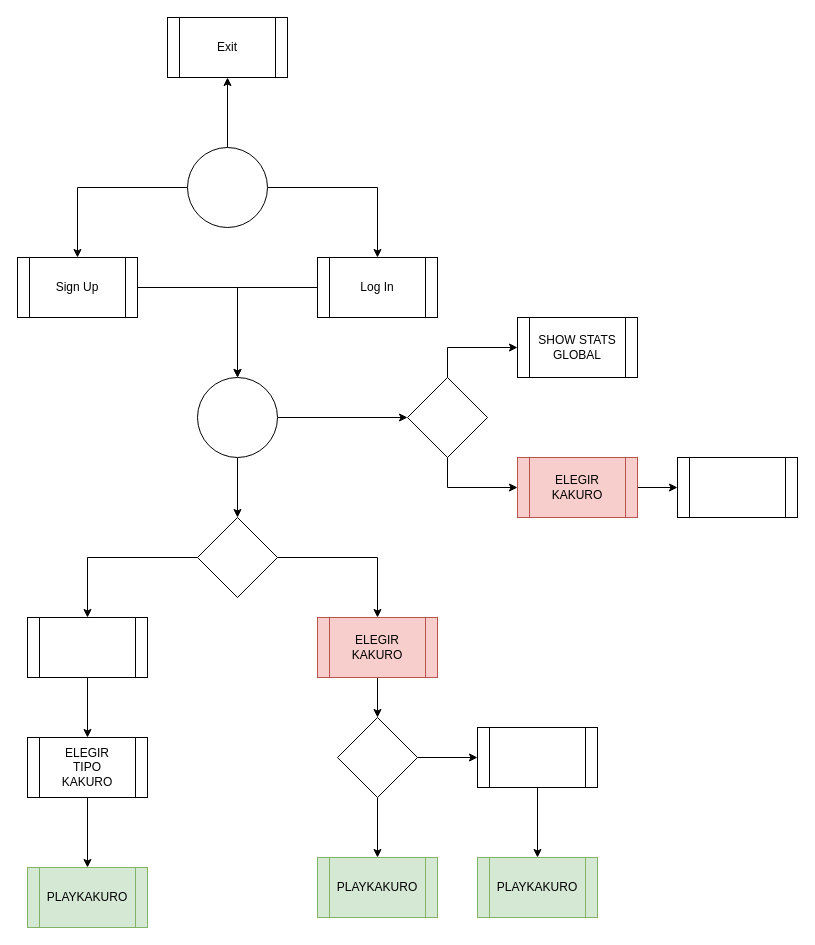
The diagram is 815 pixels wide and 945 high, and some of its shapes have lost their labels. Here are the shapes that lost their labels. From the top down, the centre of each, then its label:
At point 237,417: "STATS or KAKURO".
At point 737,487: "SHOW STATS KAKURO".
At point 237,557: "JUGAR o Introducir".
At point 87,647: "CREAR KAKURO".
At point 377,757: "LOAD OR NEW MATCH".
At point 537,757: "Elegir Instancia Partida".
